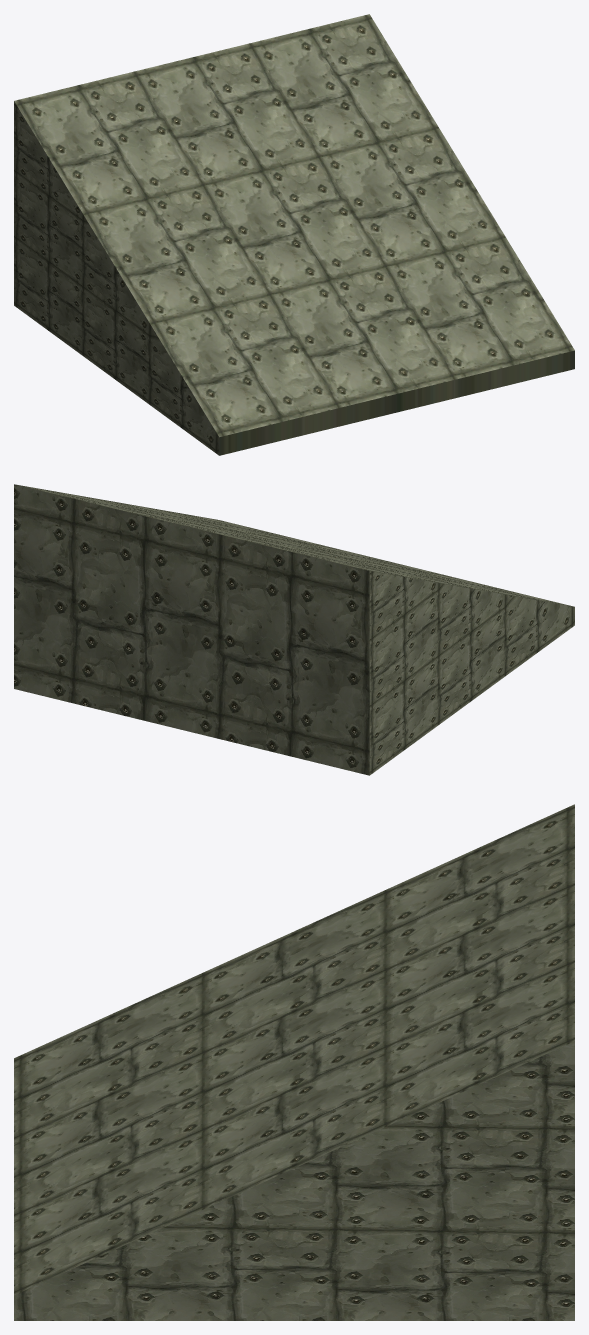
File: Ramp_metal3.glb
3 renders of one model, top to bottom at view 1: azimuth 30°, elevation 25°; view 2: azimuth 150°, elevation 25°; view 3: azimuth 270°, elevation 25°, orthographic. The views are drawn at different scales.
Parts seen in each view (by area): view 1: Cube; view 2: Cube; view 3: Cube.
Part boxes in pixels (x1=…): Cube: x1=14, y1=14, x2=574, y2=455; Cube: x1=14, y1=484, x2=574, y2=775; Cube: x1=14, y1=804, x2=574, y2=1320.
Size of what is drawn, in the model's own units: 4 by 2.2 by 4.
Materials: 1 (1 with a texture image).
